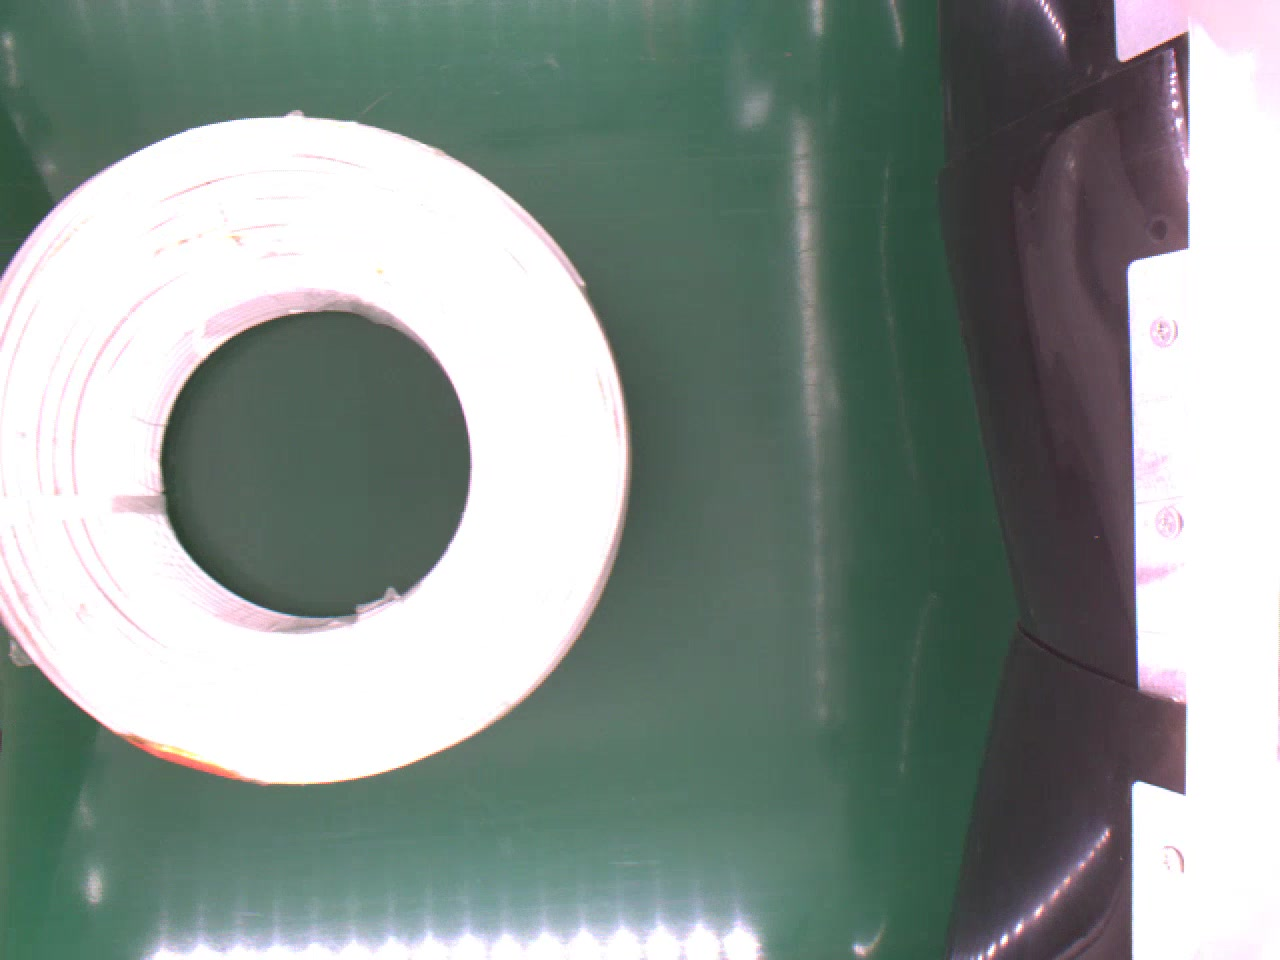white: (0, 112, 629, 785)
